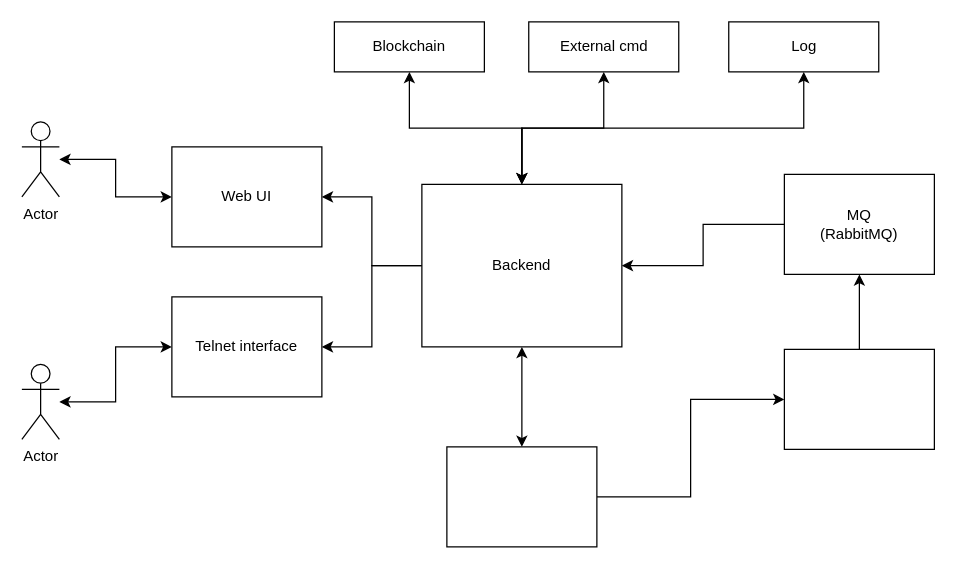
Image size: 956x569. Some labels were removed from this diagram. Here are the shapes that lost their labels. From the top down, the centre of each, then its label:
the point at 858,398: CDC (ZenDesk Maxwell)
the point at 521,496: DB (MariaDB)
